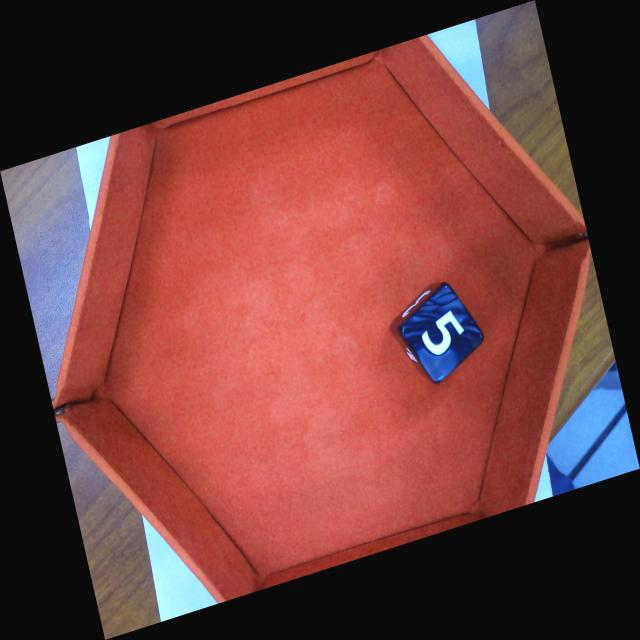dice: (391, 280, 486, 390)
